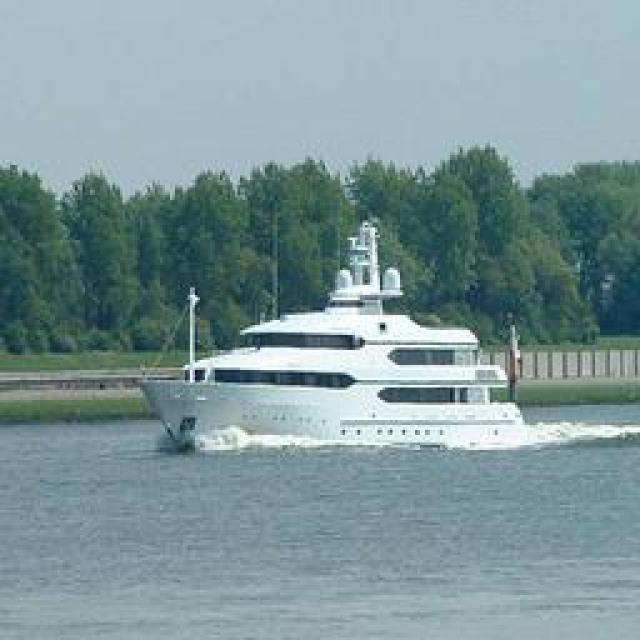Ship: (142, 227, 535, 455)
